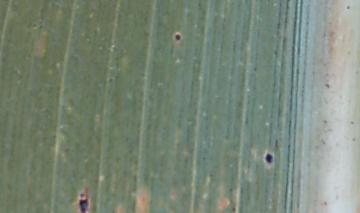tarspot: (79, 199, 88, 213), (265, 153, 273, 164), (174, 33, 181, 42), (80, 193, 86, 199)
